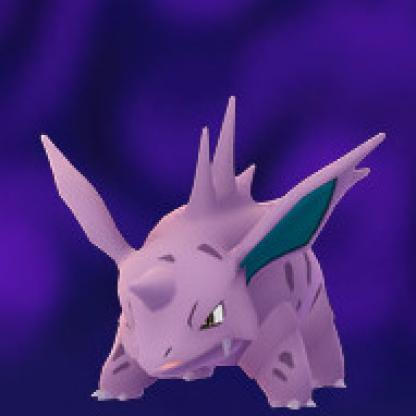Nidorino: (28, 91, 386, 413)
